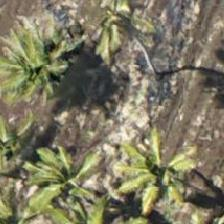coconut_tree: (122, 123, 212, 213), (9, 142, 99, 223), (0, 9, 81, 99), (77, 0, 167, 71)
